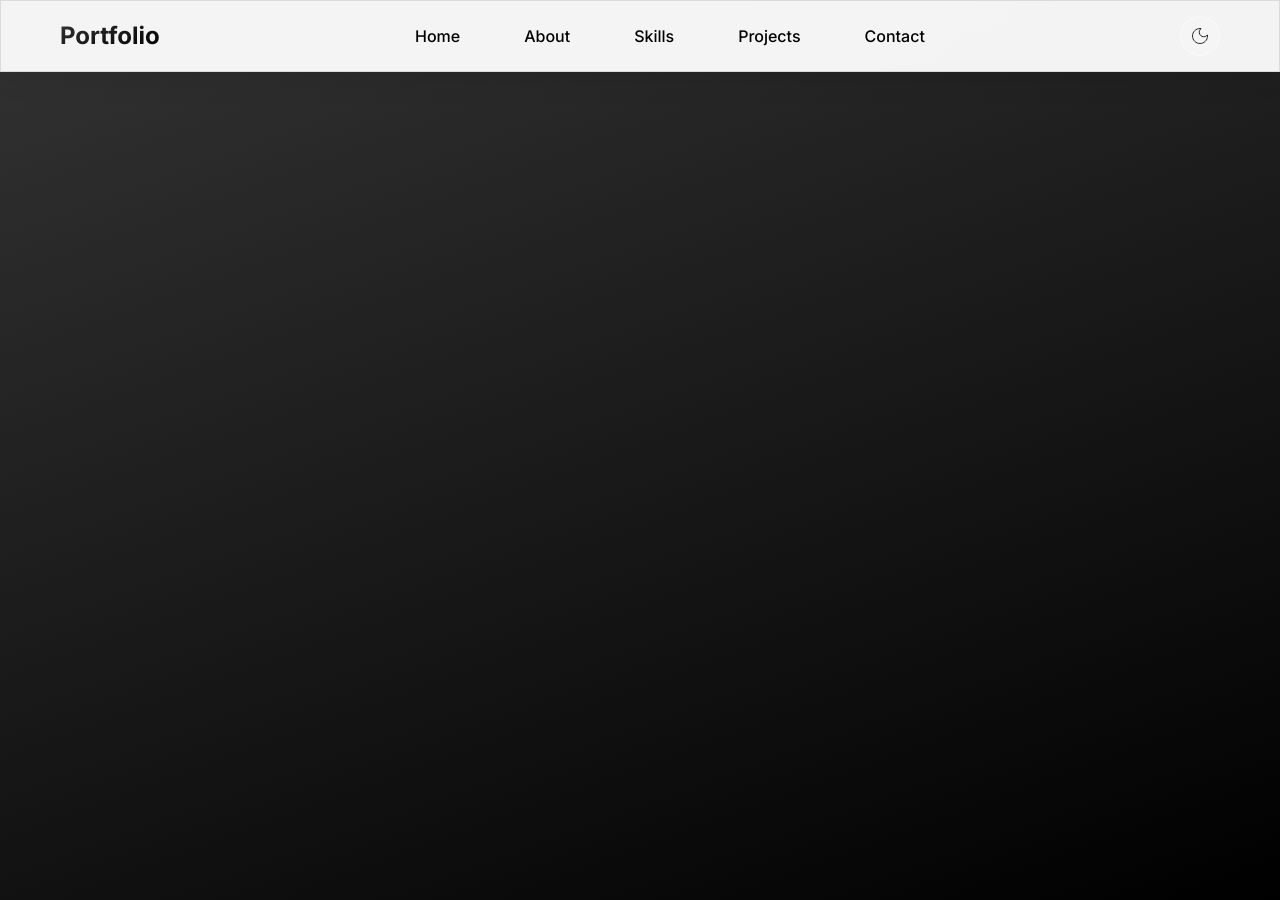
it: Navbar Component › toggles the theme when theme button is clicked
The image size is (1280, 900).
Click the button named "switch to" at {"x": 1200, "y": 36}, box [1180,16,1220,56]
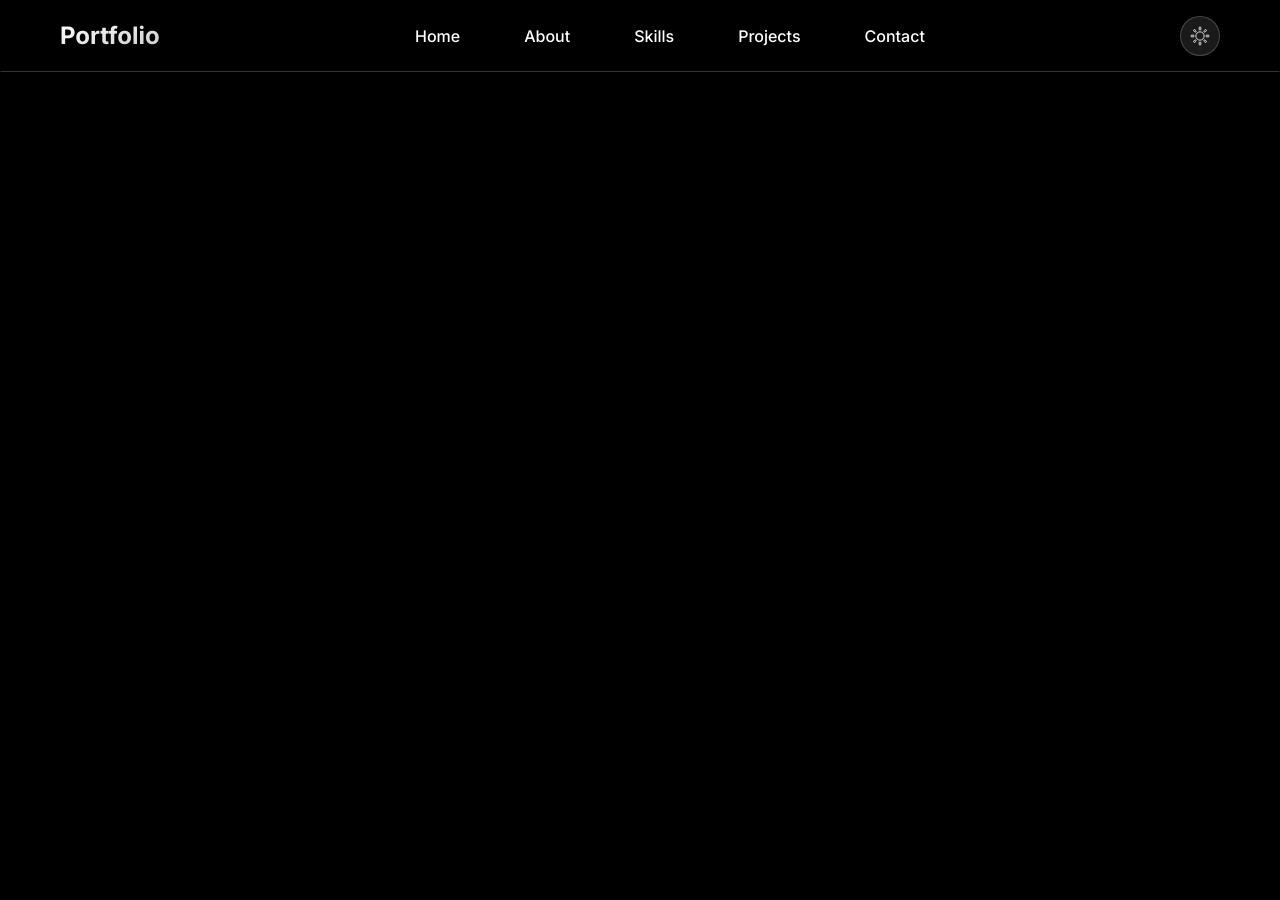
Check: the button named "switch to light mode" is shown, box [1180,16,1220,56]
